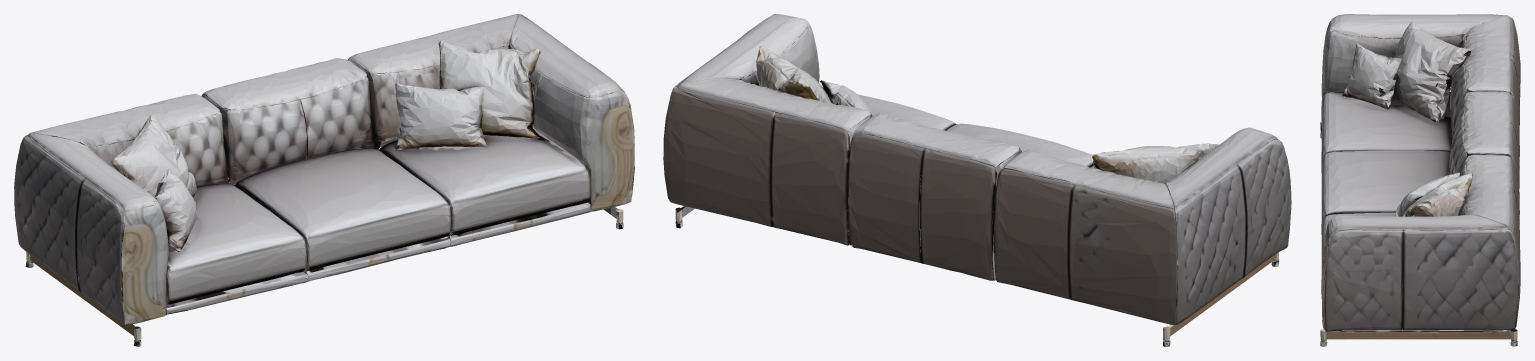
File: edited_mesh.glb
3 renders of one model, left to right at view 1: azimuth 30°, elevation 25°; view 2: azimuth 150°, elevation 25°; view 3: azimuth 270°, elevation 25°, orthographic. The views are drawn at different scales.
Parts seen in each view (by area): view 1: solid_001_wire; view 2: solid_001_wire; view 3: solid_001_wire.
Boxes of the visible parts, left/top/right/bottom form: solid_001_wire: left=14, top=14, right=634, bottom=346; solid_001_wire: left=663, top=14, right=1291, bottom=346; solid_001_wire: left=1320, top=14, right=1520, bottom=346.
Bounding box in the file's own units: 2 × 0.5532 × 0.7635.
Materials: 1 (1 with a texture image).
